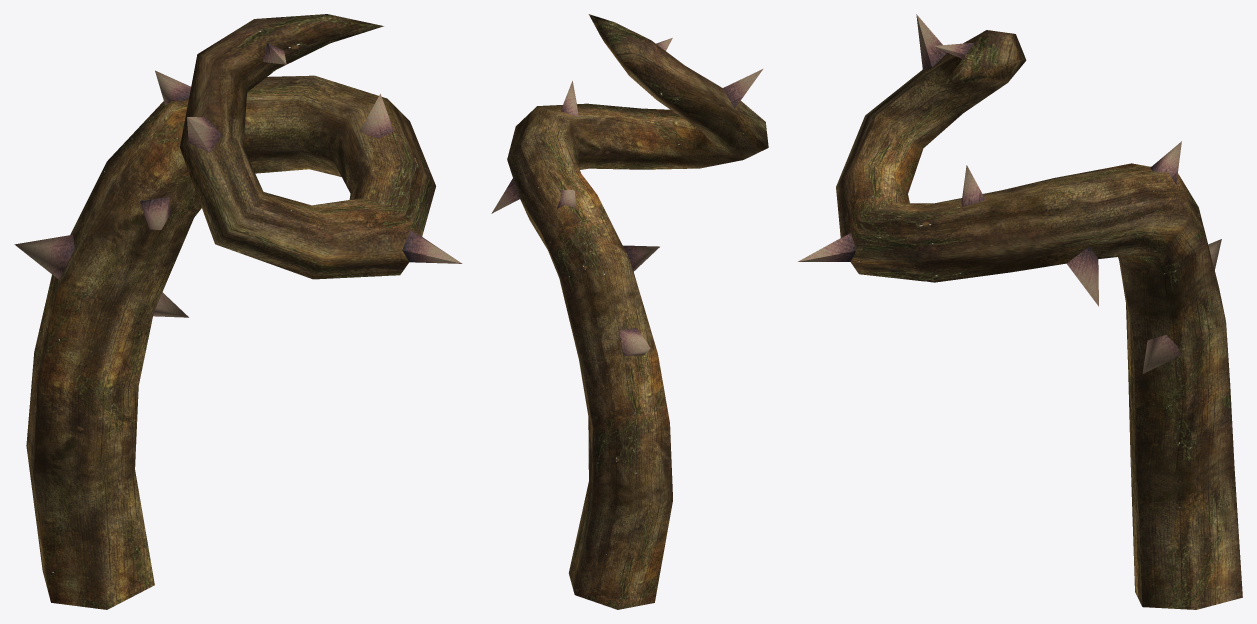
Rendered from obj_mtthund_thorn01.glb.
The picture shows the model from 3 angles, left to right: view 1: azimuth 30°, elevation 25°; view 2: azimuth 150°, elevation 25°; view 3: azimuth 270°, elevation 25°; orthographic projection. The views are drawn at different scales.
Parts seen in each view (by area): view 1: Loft01; view 2: Loft01; view 3: Loft01.
Boxes of the visible parts, x1=… form: Loft01: x1=14, y1=14, x2=462, y2=609; Loft01: x1=491, y1=14, x2=768, y2=609; Loft01: x1=798, y1=14, x2=1242, y2=609.
Bounding box in the file's own units: 5.94 × 12.26 × 8.25.
1 material, 1 textured.
